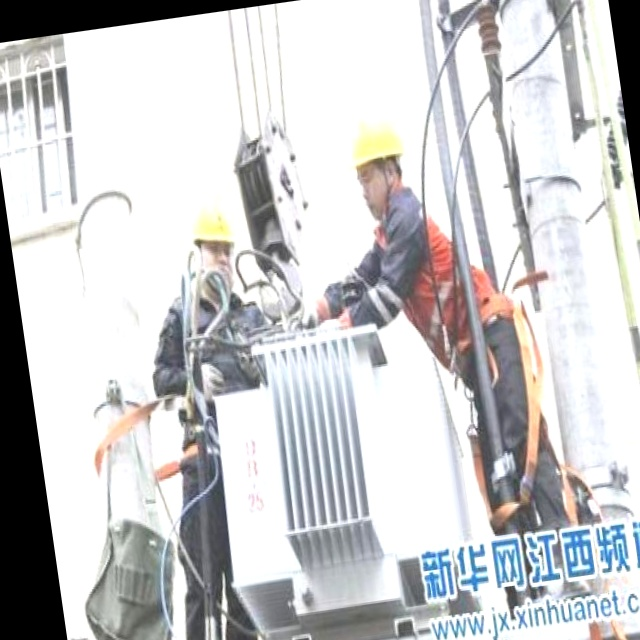Con_Casco: (342, 104, 415, 220), (183, 192, 245, 290)
